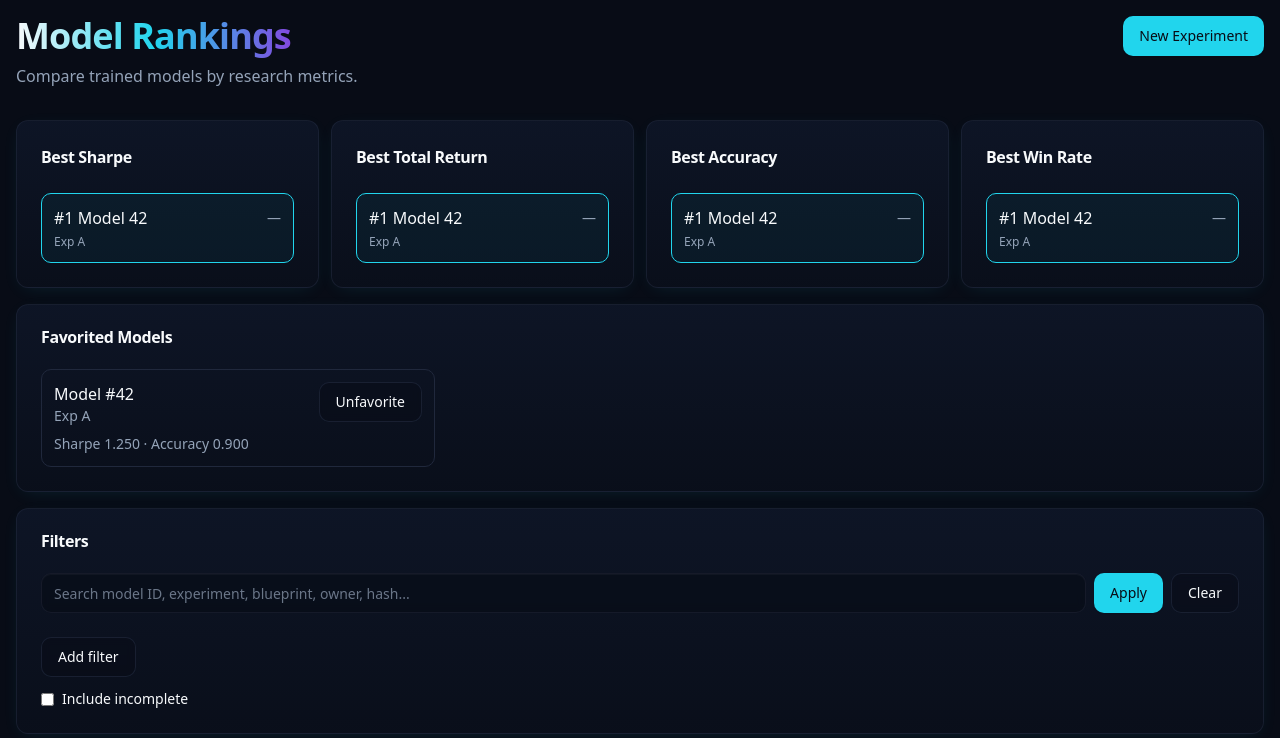
Test: model views › removes favorited model from rankings immediately after unfavorite
Check: the link "Model #42" is shown, box [54, 383, 134, 405]
Click the button "Unfavorite" at (370, 402), box [318, 382, 422, 422]
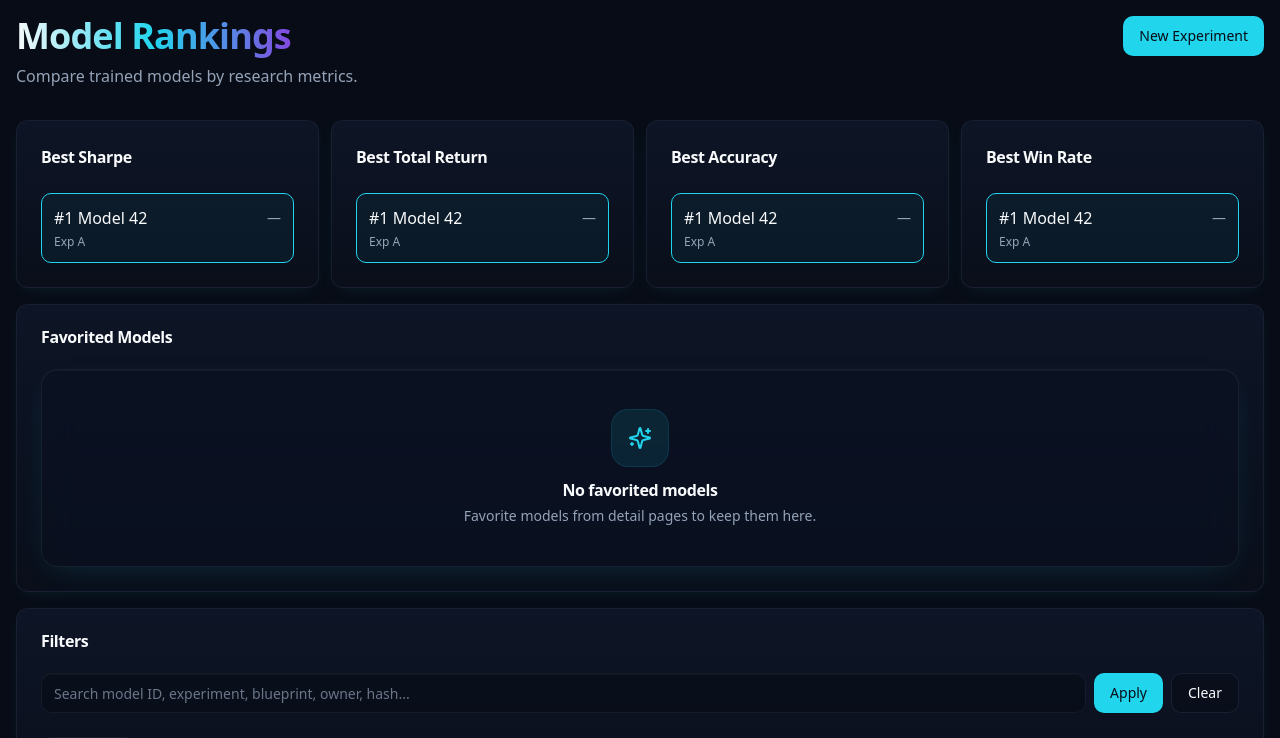
Check: the link "Model #42" is gone
